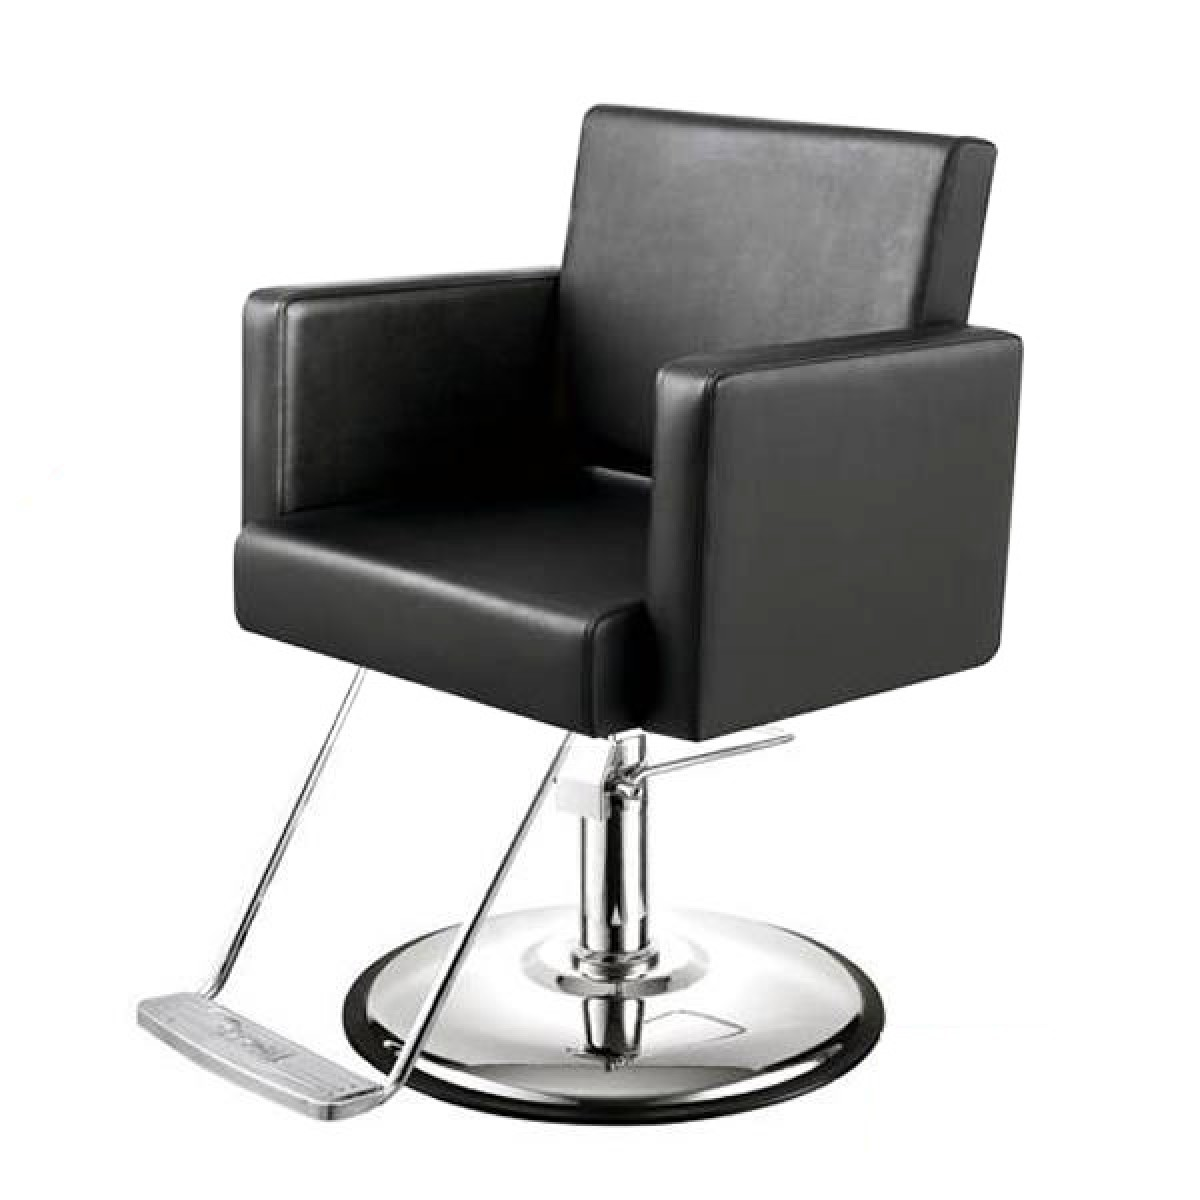chairs: (129, 98, 1032, 1137)
